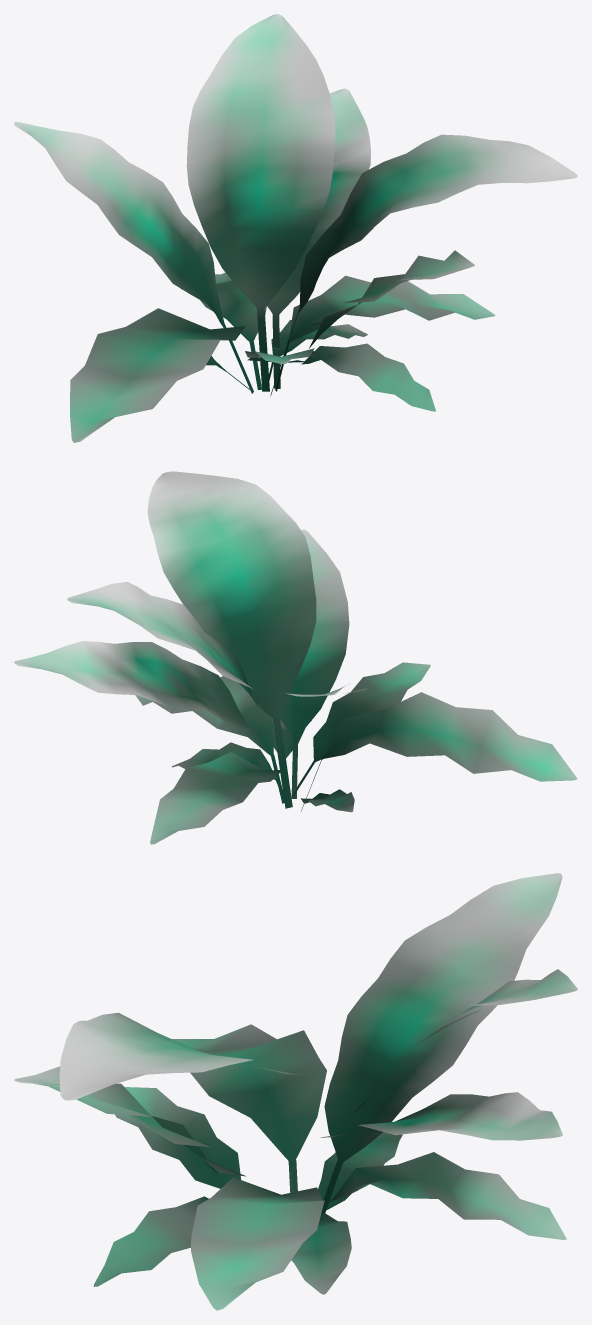
Rendered from plant.glb.
3 renders of one model, top to bottom at view 1: azimuth 30°, elevation 25°; view 2: azimuth 150°, elevation 25°; view 3: azimuth 270°, elevation 25°, orthographic. The views are drawn at different scales.
Visible parts, largest first — view 1: plant; view 2: plant; view 3: plant.
Boxes of the visible parts, x1=… form: plant: x1=14, y1=14, x2=577, y2=442; plant: x1=14, y1=471, x2=577, y2=844; plant: x1=14, y1=873, x2=577, y2=1310.
Bounding box in the file's own units: 4.99 × 2.76 × 4.12.
